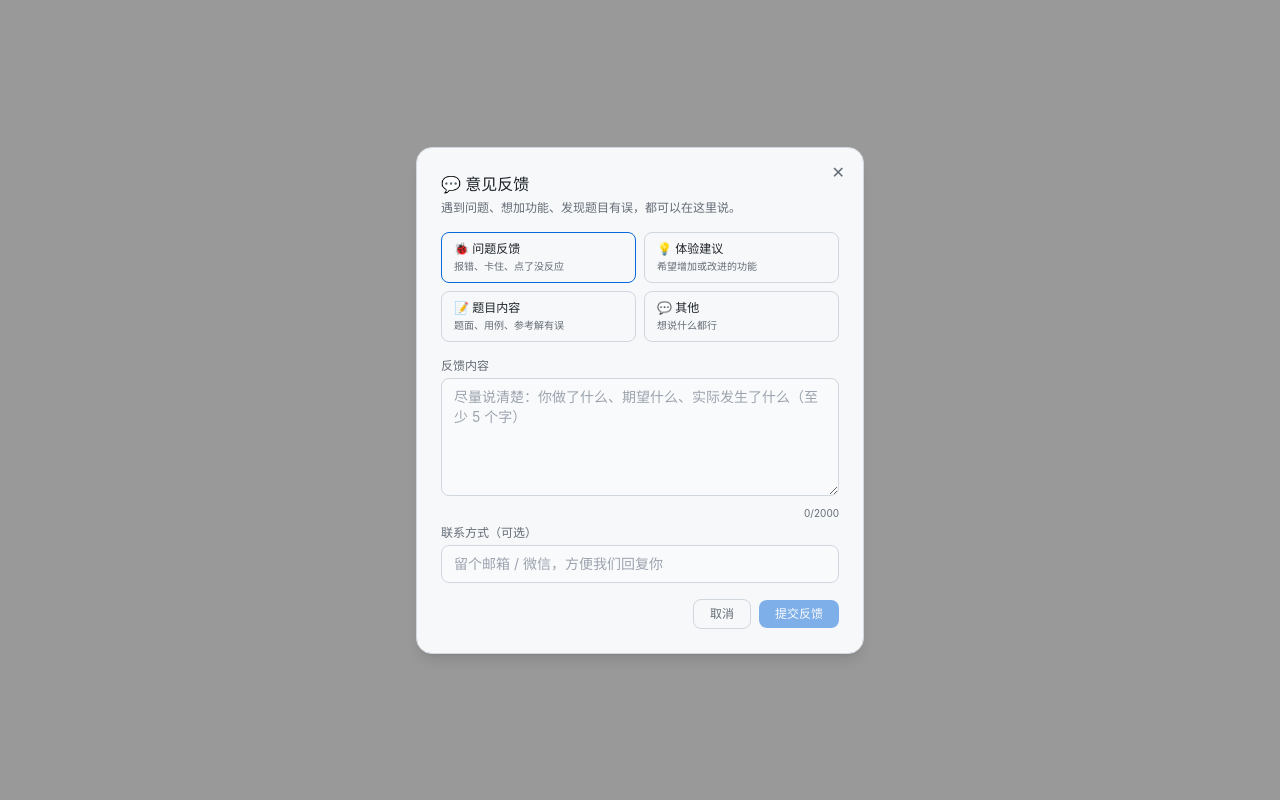
Test case: FeedbackModal › 正文不足 5 字时提交按钮禁用（含纯空白）
This screenshot has width=1280, height=800.
Expected: the button with test id "feedback-submit" is disabled, 759,600 -> 839,628
Type "四个字呀" into the text box labelled "反馈内容" at (640, 436), box 441,378 -> 839,496
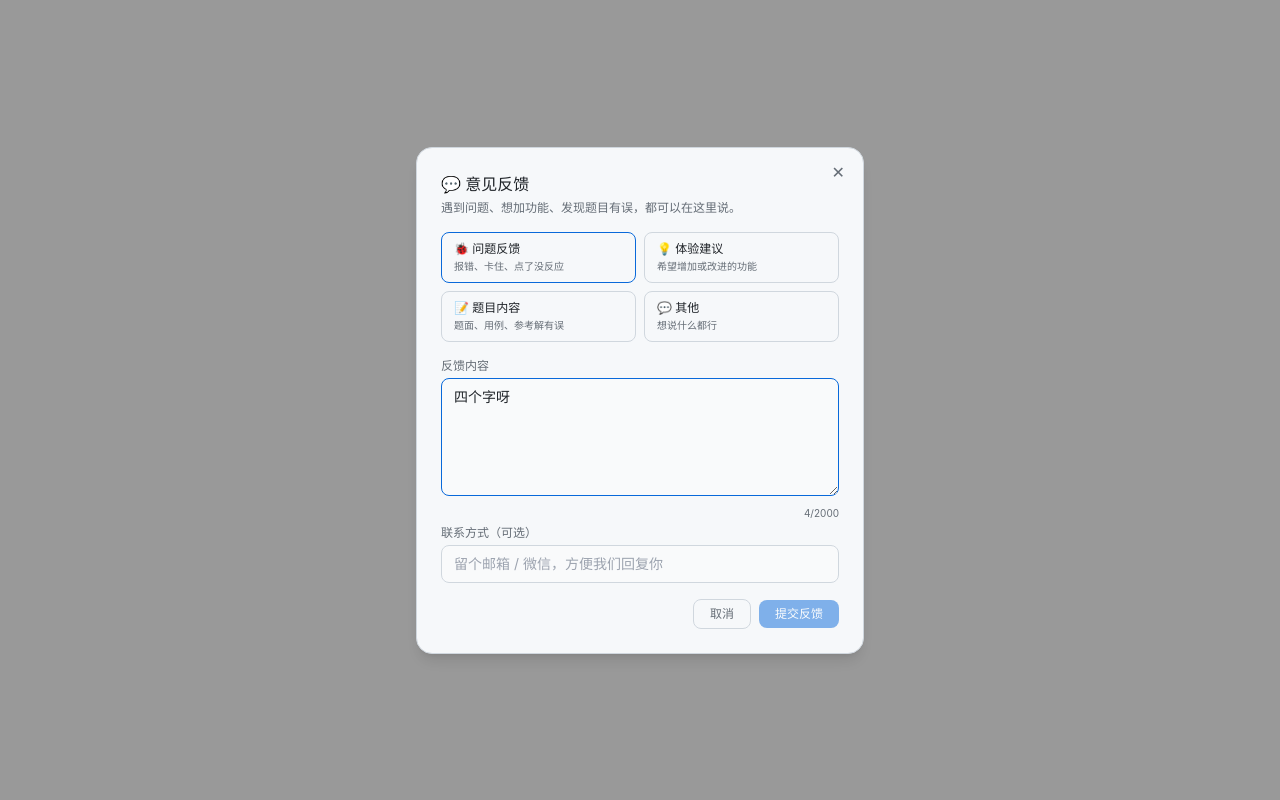
Expected: the button with test id "feedback-submit" is disabled, 759,600 -> 839,628
Type "好" into the text box labelled "反馈内容" at (640, 436), box 441,378 -> 839,496
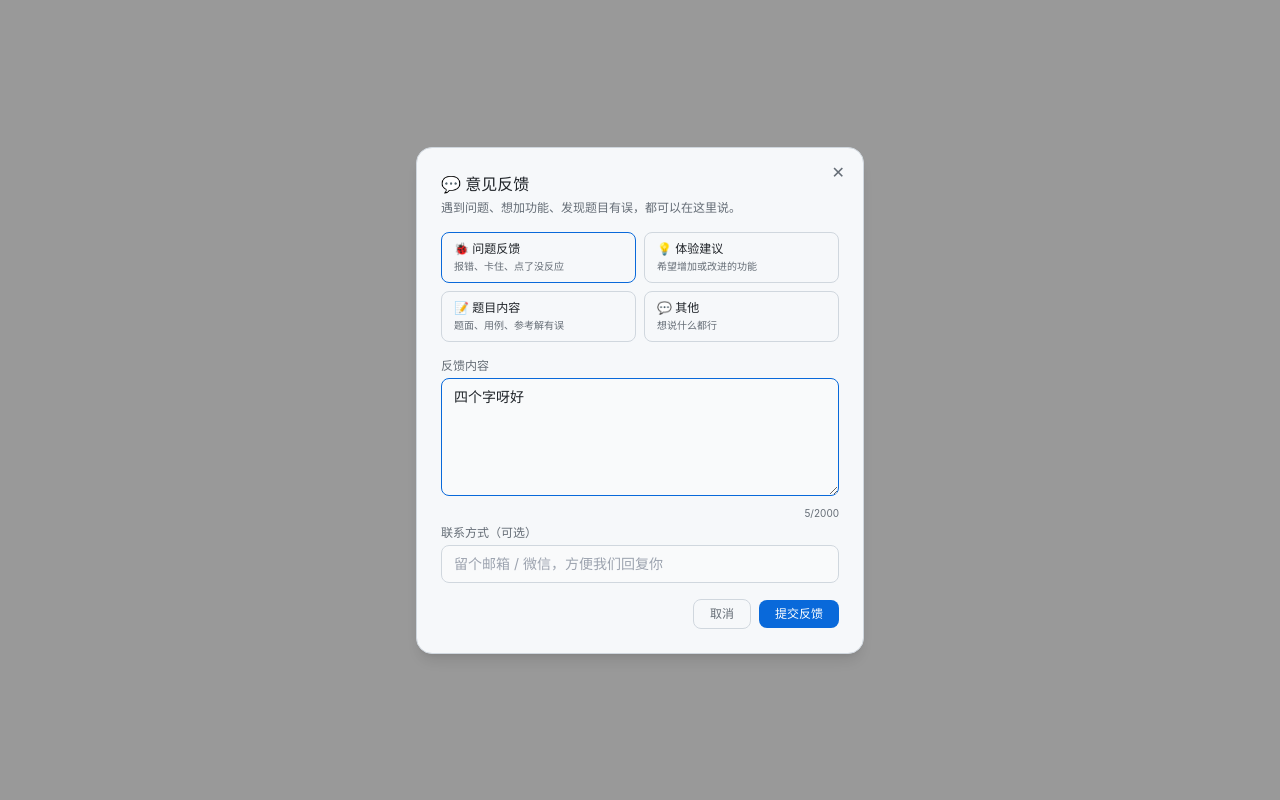
Now the button with test id "feedback-submit" is enabled, box 759,600 -> 839,628
